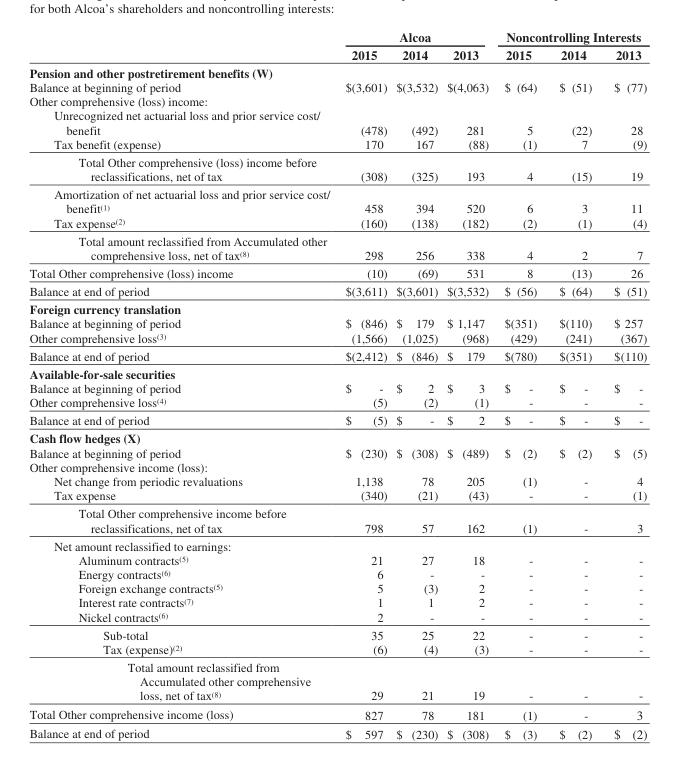table: (28, 28, 646, 741)
table column: (28, 28, 337, 741), (547, 28, 602, 741), (337, 28, 391, 741), (441, 28, 495, 741), (495, 28, 547, 741), (391, 28, 441, 741), (602, 28, 646, 741)
table column header: (28, 28, 646, 63)
table projected row header: (28, 299, 646, 316), (28, 428, 646, 445), (28, 63, 646, 79), (28, 364, 646, 380), (28, 536, 646, 552), (28, 93, 646, 108), (28, 459, 646, 473)
table row: (28, 657, 646, 704), (28, 152, 646, 184), (28, 231, 646, 263), (28, 504, 646, 536), (28, 184, 646, 215), (28, 108, 646, 136), (28, 704, 646, 723), (28, 45, 646, 63), (28, 263, 646, 281), (28, 281, 646, 299), (28, 346, 646, 364), (28, 723, 646, 741), (28, 28, 646, 45), (28, 299, 646, 316), (28, 394, 646, 411), (28, 411, 646, 428), (28, 428, 646, 445), (28, 487, 646, 504), (28, 63, 646, 79), (28, 136, 646, 152), (28, 215, 646, 231), (28, 330, 646, 346), (28, 364, 646, 380), (28, 536, 646, 552), (28, 609, 646, 625), (28, 625, 646, 641), (28, 641, 646, 657), (28, 93, 646, 108), (28, 580, 646, 595), (28, 79, 646, 93), (28, 316, 646, 330), (28, 380, 646, 394), (28, 445, 646, 459), (28, 459, 646, 473), (28, 473, 646, 487), (28, 552, 646, 566), (28, 566, 646, 580), (28, 595, 646, 609)
table spanning cell: (337, 28, 495, 45), (495, 28, 646, 45)
